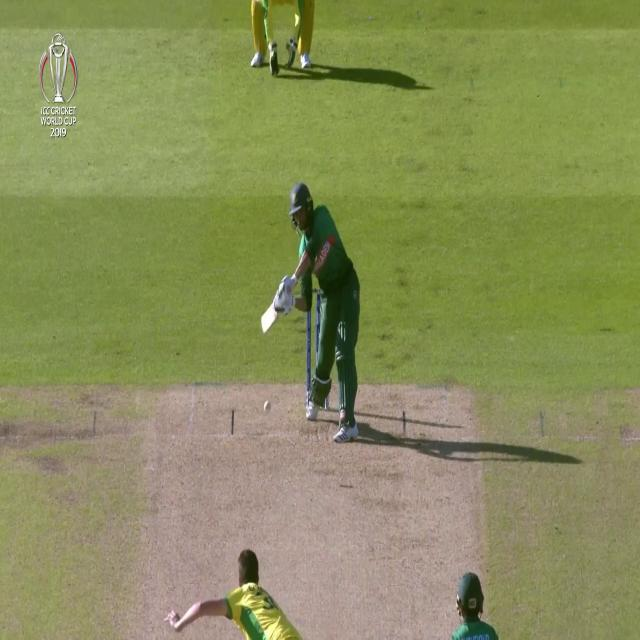ball: (262, 396, 273, 418)
